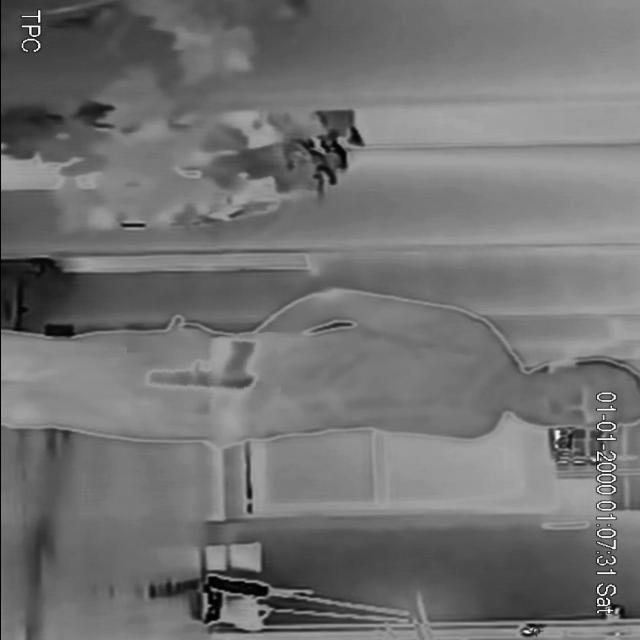Weapon: (127, 335, 279, 403)
